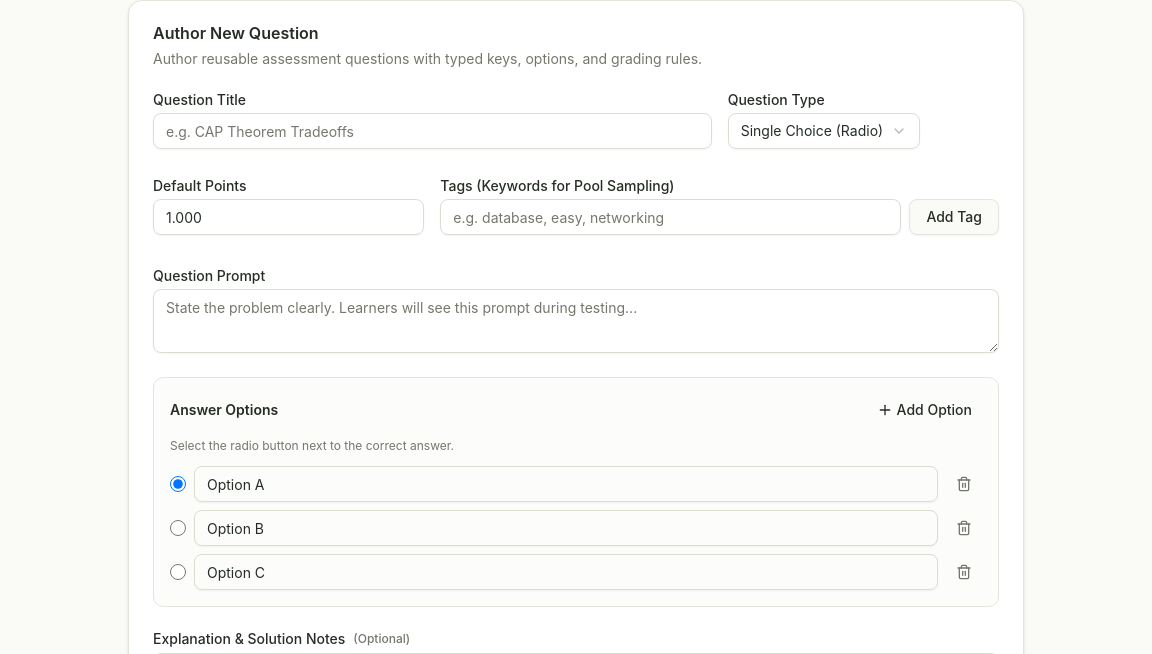
Test: QuestionEditor Component › renders question editor with choice options and supports adding/removing options
Expected: the text "Author New Question" is shown, 153,23 -> 319,43
Expected: the field labelled "Question Title" is shown, 153,113 -> 712,149
// Add another option
Click the button "Add Option": (924, 410) 867,394 -> 982,426
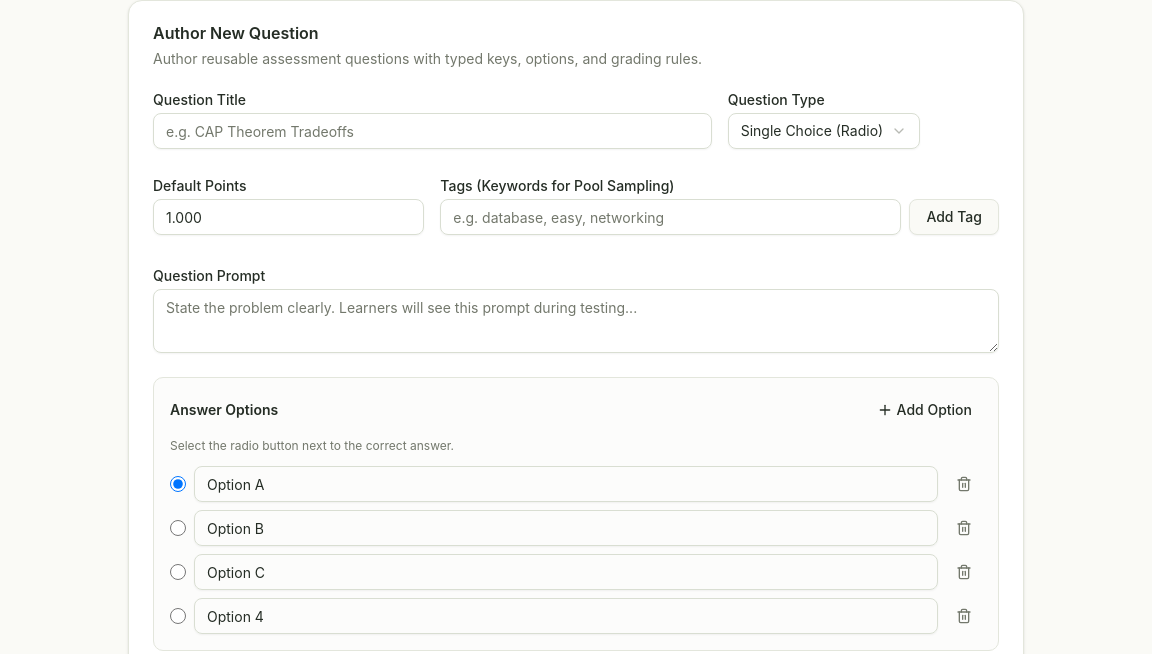
Result: the number of fields with placeholder "Option text..." is 4 at 194,466 -> 938,502; 194,510 -> 938,546; 194,554 -> 938,590; 194,598 -> 938,634
